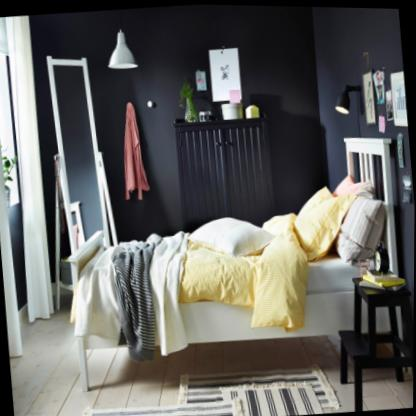Bed: (68, 175, 395, 393)
Wooden floor: (10, 309, 95, 416)
